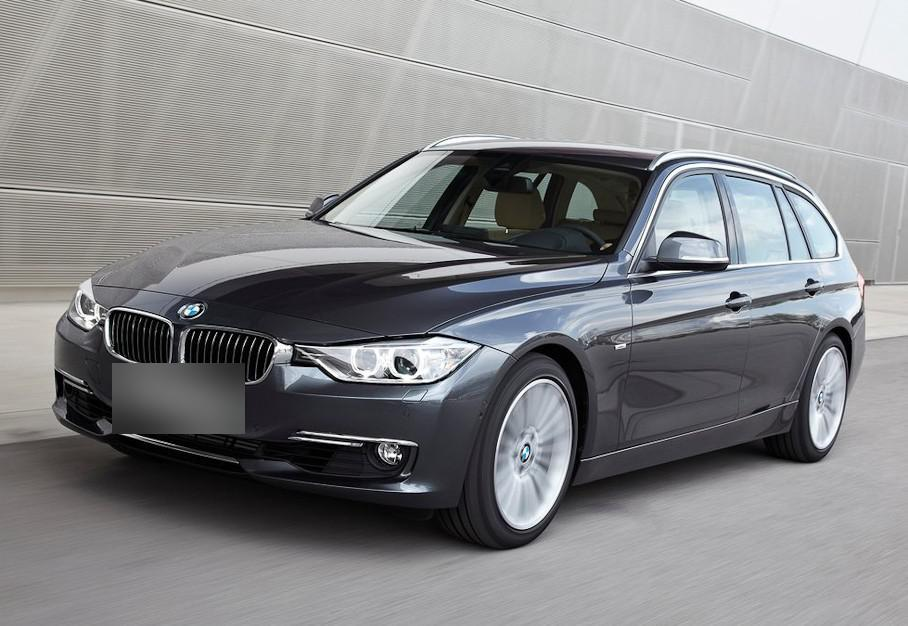Wagon: (52, 133, 864, 548)
